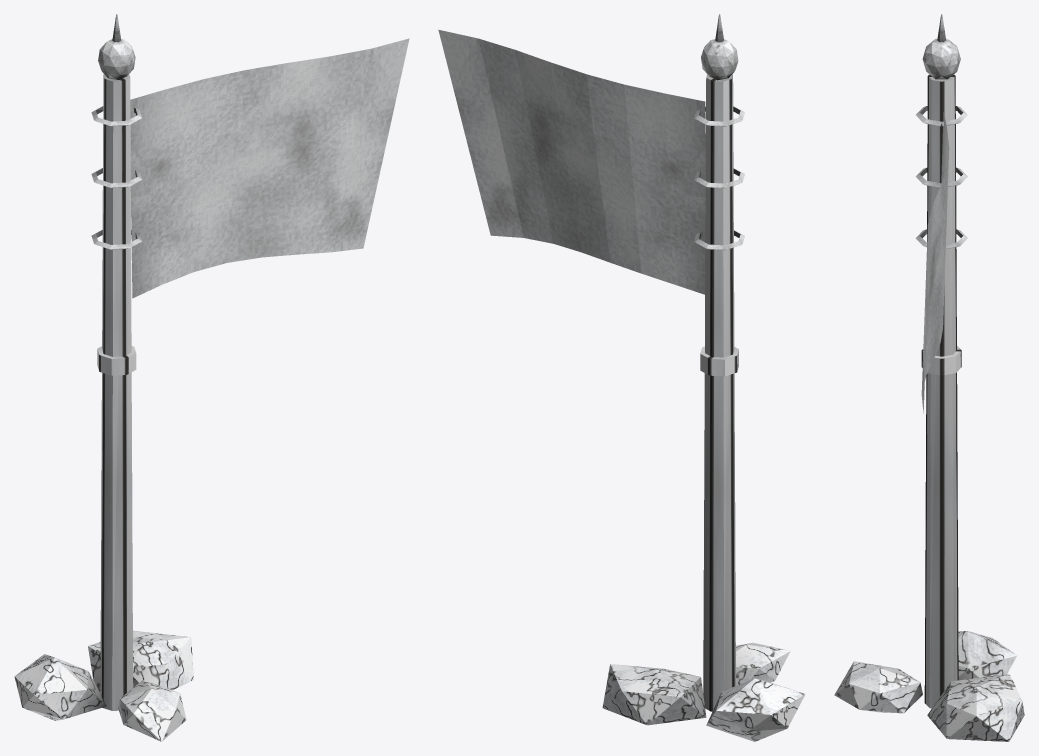
3 views of the same model, side by side, from view 1: azimuth 30°, elevation 25°; view 2: azimuth 150°, elevation 25°; view 3: azimuth 270°, elevation 25° (orthographic).
Parts seen in each view (by area): view 1: flag_M_cloth_team, flag_M_wood, flag_M_fire_stone, flag_M_gold, flag_M_rope, flag_M_wood_dark; view 2: flag_M_cloth_team, flag_M_wood, flag_M_fire_stone, flag_M_gold, flag_M_rope, flag_M_wood_dark; view 3: flag_M_wood, flag_M_fire_stone, flag_M_cloth_team, flag_M_gold, flag_M_rope, flag_M_wood_dark.
Part boxes in pixels (left/top/right/bottom): flag_M_cloth_team: left=130, top=38, right=409, bottom=298; flag_M_wood: left=100, top=74, right=133, bottom=710; flag_M_fire_stone: left=14, top=630, right=193, bottom=741; flag_M_gold: left=98, top=14, right=135, bottom=79; flag_M_rope: left=91, top=106, right=141, bottom=249; flag_M_wood_dark: left=97, top=346, right=136, bottom=375; flag_M_cloth_team: left=438, top=29, right=705, bottom=294; flag_M_wood: left=703, top=74, right=735, bottom=711; flag_M_fire_stone: left=602, top=642, right=805, bottom=741; flag_M_gold: left=701, top=14, right=738, bottom=80; flag_M_rope: left=694, top=106, right=744, bottom=250; flag_M_wood_dark: left=700, top=346, right=738, bottom=376; flag_M_wood: left=924, top=74, right=958, bottom=708; flag_M_fire_stone: left=834, top=631, right=1024, bottom=741; flag_M_cloth_team: left=921, top=112, right=949, bottom=413; flag_M_gold: left=922, top=14, right=960, bottom=79; flag_M_rope: left=915, top=106, right=967, bottom=248; flag_M_wood_dark: left=921, top=346, right=961, bottom=375.
Bounding box in the file's own units: 1.38 × 2.51 × 0.6165.
6 materials, 6 textured.
